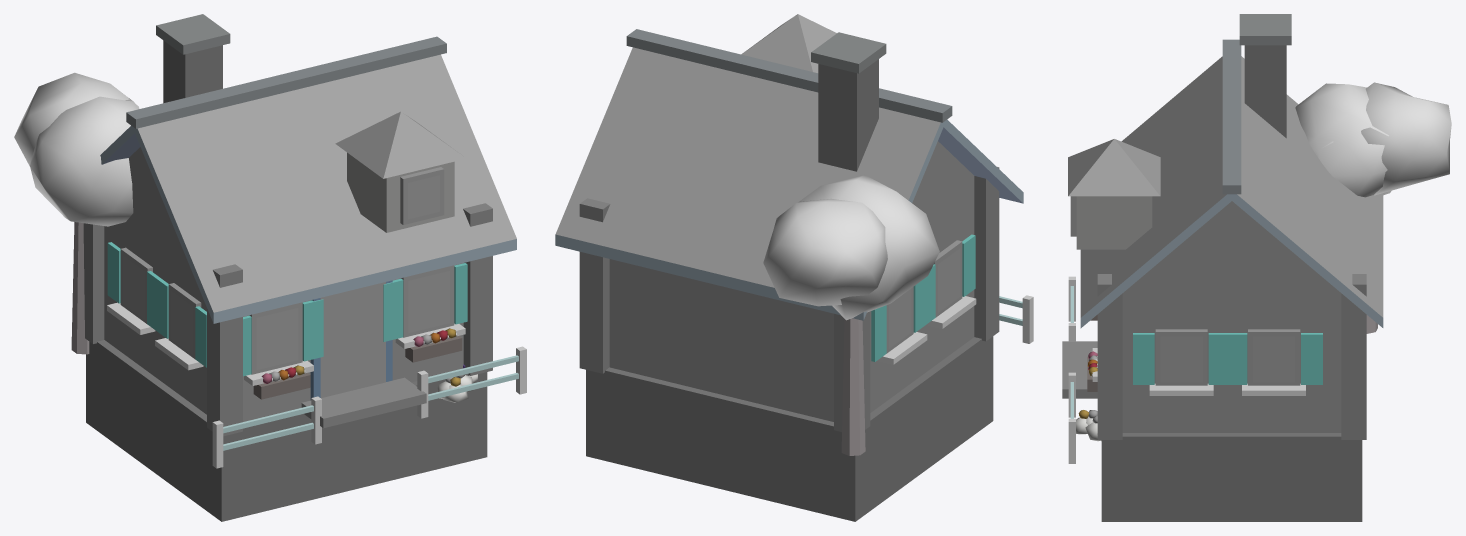
File: house_b.glb
3 views of the same model, side by side, from view 1: azimuth 30°, elevation 25°; view 2: azimuth 150°, elevation 25°; view 3: azimuth 270°, elevation 25° (orthographic). The views are drawn at different scales.
Parts seen in each view (by area): view 1: house_b; view 2: house_b; view 3: house_b.
Boxes of the visible parts, bbox=[...] form: house_b: bbox=[14, 14, 526, 521]; house_b: bbox=[555, 14, 1033, 521]; house_b: bbox=[1062, 14, 1451, 521].
Bounding box in the file's own units: 4.63 × 5.24 × 4.63.
